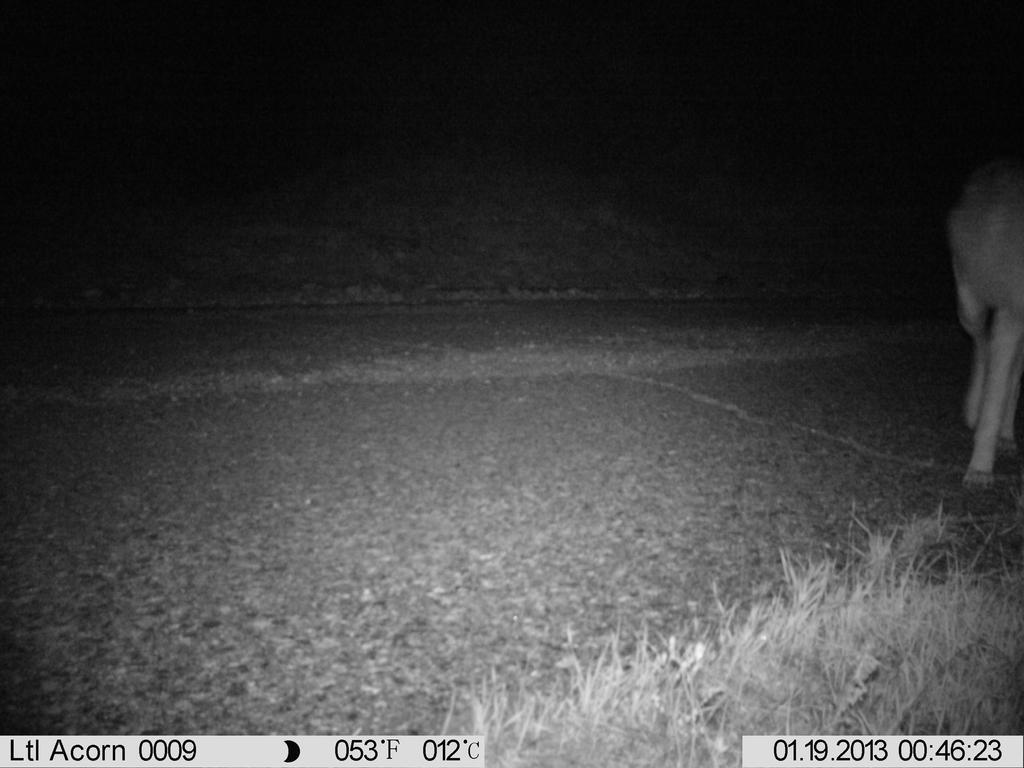coyote: (936, 133, 1020, 502)
